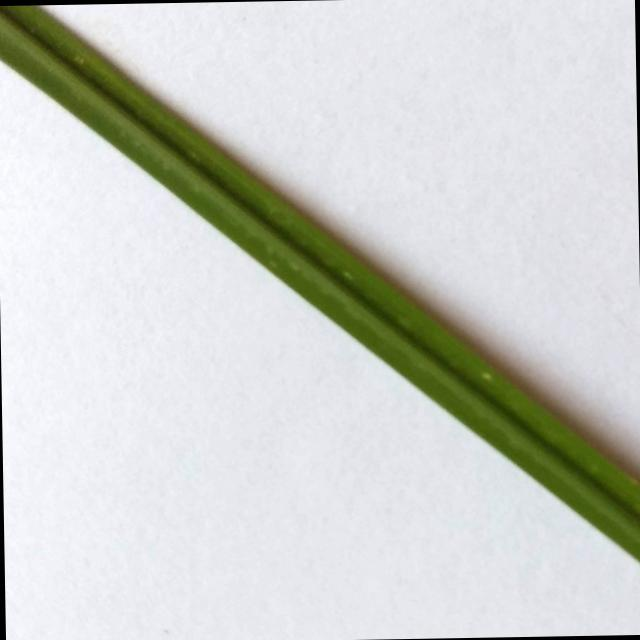Rice_Healthy: (0, 5, 640, 562)
